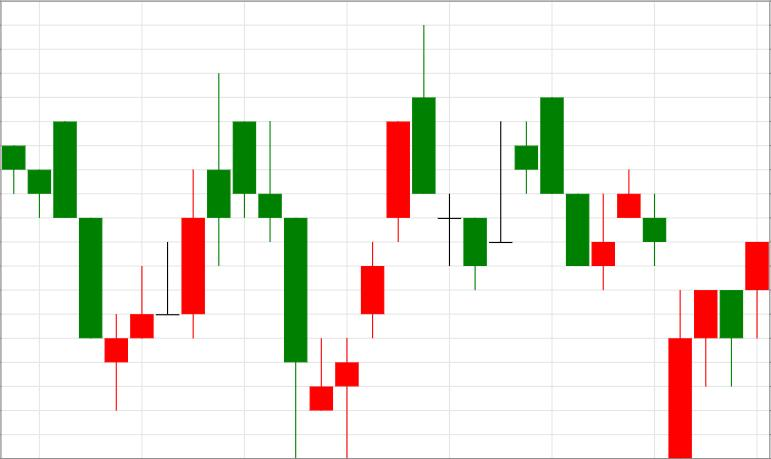three_black_crows_fall: (105, 72, 307, 459)
